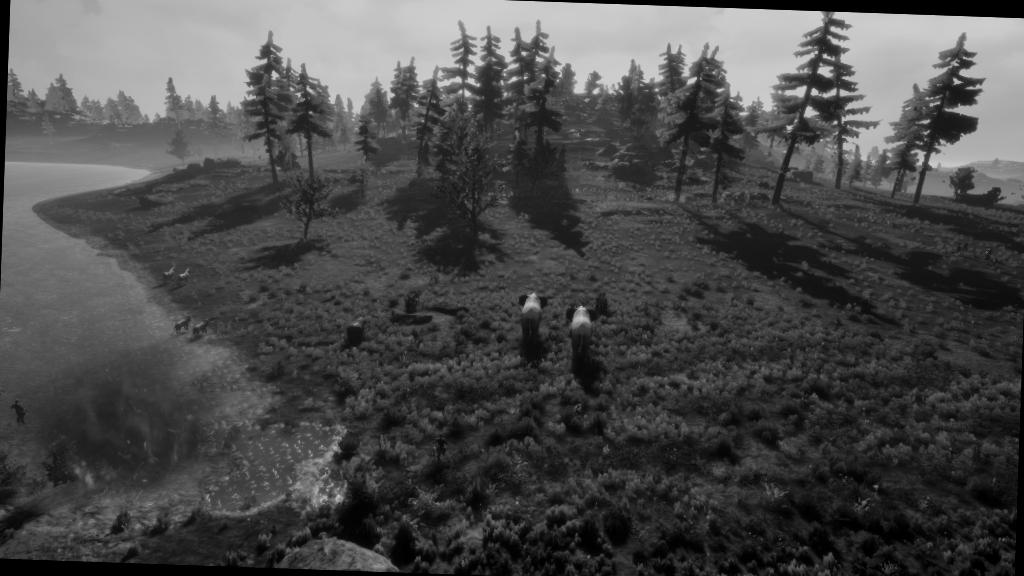Fire: (45, 364, 207, 505), (705, 177, 739, 213), (663, 178, 688, 210)
elephant: (560, 303, 600, 369), (512, 290, 551, 348)
hippopotamus: (344, 314, 369, 345)
human: (7, 398, 33, 430), (431, 431, 453, 464), (980, 247, 1000, 271), (952, 240, 970, 256), (0, 384, 7, 405)
lion: (169, 312, 193, 337), (189, 316, 214, 340)
zebra: (174, 266, 194, 289), (158, 264, 178, 286)
